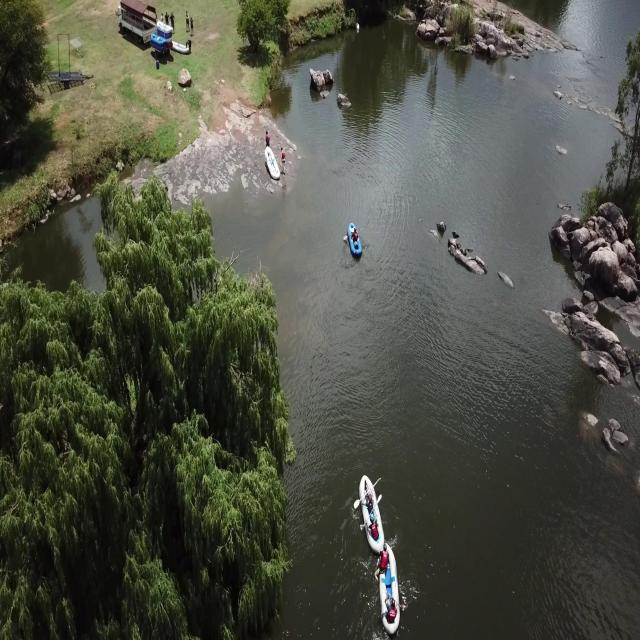kayak: (374, 545, 405, 635), (354, 473, 386, 543), (346, 223, 363, 261)
